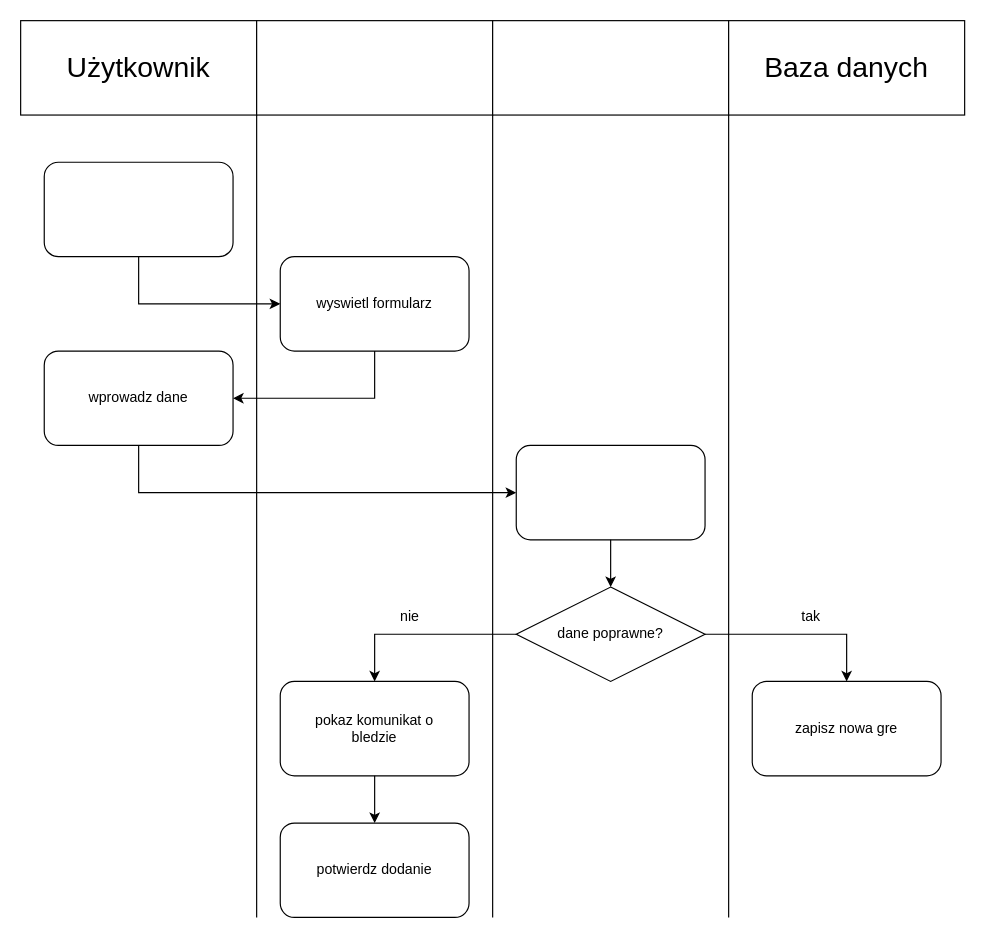
The diagram is 985 pixels wide and 939 high, and some of its shapes have lost their labels. The shapes that lost their labels are listed below. From the top down, each one's box as (x1, y1, x2, y2) in pixels, then its label:
(255, 19, 493, 115): Aplikacja
(491, 19, 729, 115): System
(43, 161, 233, 257): wybierz "dodaj gre "
(515, 444, 705, 540): sprawdz poprawnosc danych
